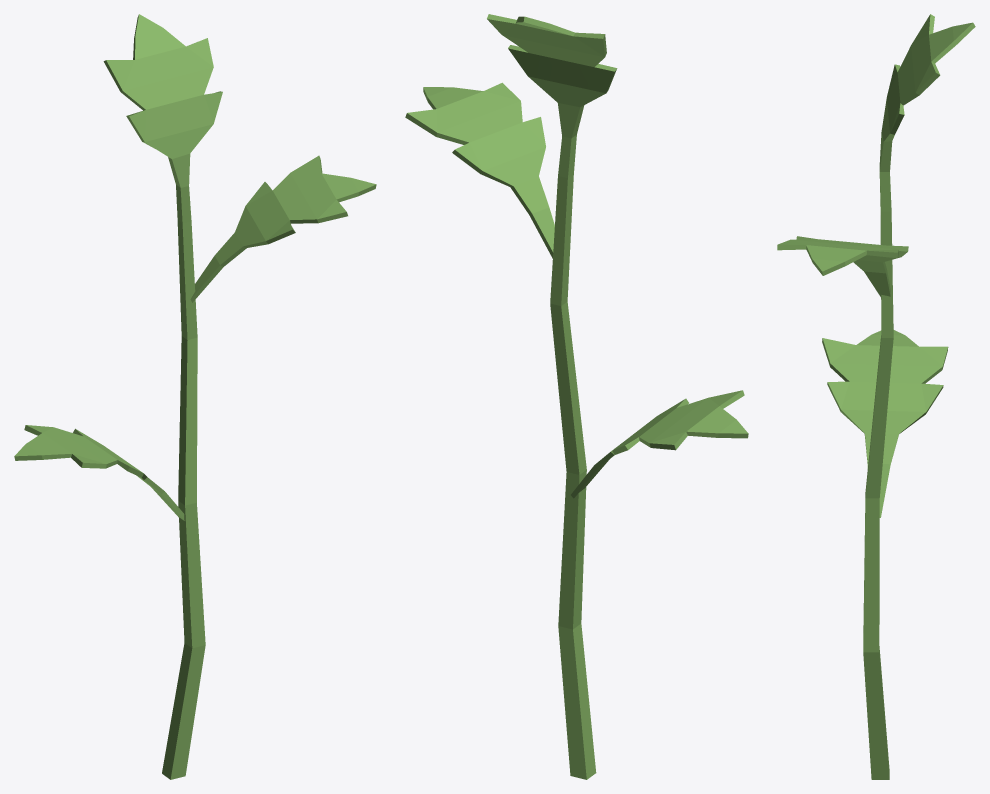
Rendered from tomato_2.glb.
3 views of the same model, side by side, from view 1: azimuth 30°, elevation 25°; view 2: azimuth 150°, elevation 25°; view 3: azimuth 270°, elevation 25° (orthographic). The views are drawn at different scales.
Parts seen in each view (by area): view 1: Tomato_2; view 2: Tomato_2; view 3: Tomato_2.
Part boxes in pixels (box(x1,y1,x2,y2)): Tomato_2: box(14, 14, 376, 779); Tomato_2: box(405, 14, 748, 779); Tomato_2: box(777, 14, 975, 779).
Size of the model in its own units: 0.3768 by 0.7908 by 0.1874.
